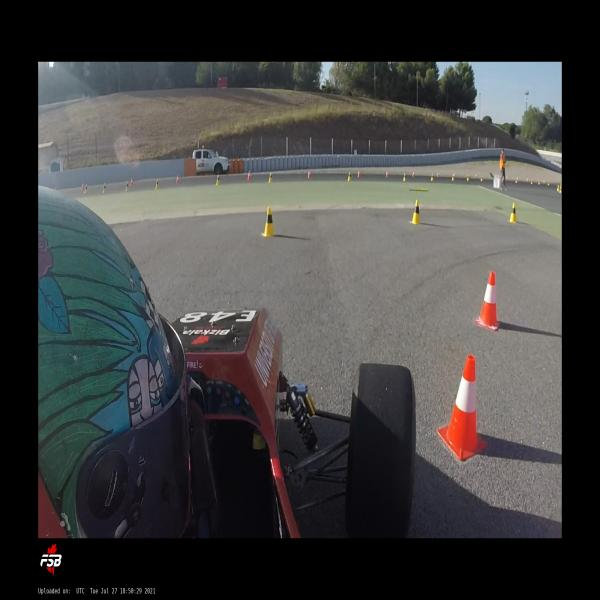orange_cone: (438, 355, 487, 460), (475, 271, 500, 330), (247, 171, 251, 180), (176, 174, 180, 183), (307, 169, 311, 178), (130, 178, 134, 186), (358, 170, 360, 178), (386, 171, 388, 178), (412, 171, 414, 178), (82, 183, 84, 190), (437, 172, 439, 178), (454, 172, 455, 178)
yellow_cone: (261, 206, 275, 238), (410, 200, 420, 224), (507, 203, 517, 223), (268, 172, 273, 183), (347, 172, 352, 182), (216, 174, 220, 186), (102, 182, 106, 193), (155, 178, 159, 189), (125, 181, 129, 191), (84, 184, 88, 194), (430, 174, 434, 182), (403, 172, 406, 182), (559, 185, 562, 194), (451, 174, 454, 181), (466, 174, 469, 181), (480, 175, 483, 182), (557, 184, 559, 192), (516, 179, 518, 184), (538, 180, 540, 185), (530, 180, 532, 184)
